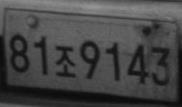1: (103, 41, 126, 81), (32, 35, 53, 75)
3: (150, 45, 172, 87)
4: (127, 44, 150, 85)
8: (8, 33, 30, 74)
9: (79, 39, 100, 79)
조: (53, 45, 76, 77)
